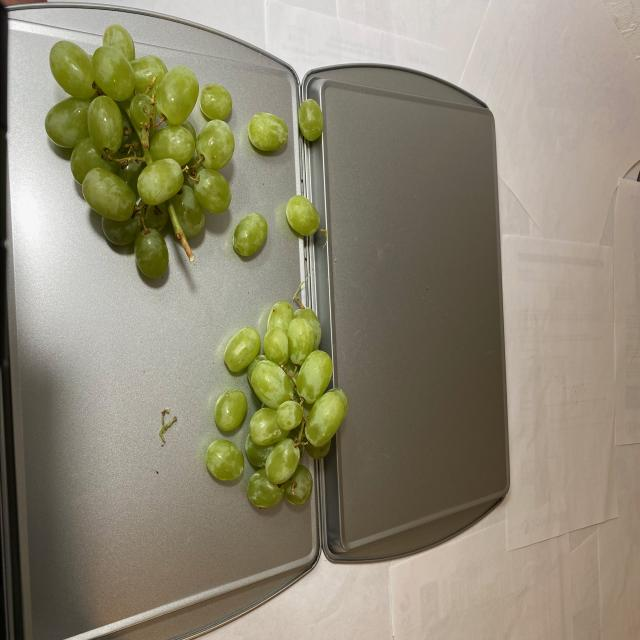grapes: (42, 29, 332, 282), (204, 294, 346, 516)
